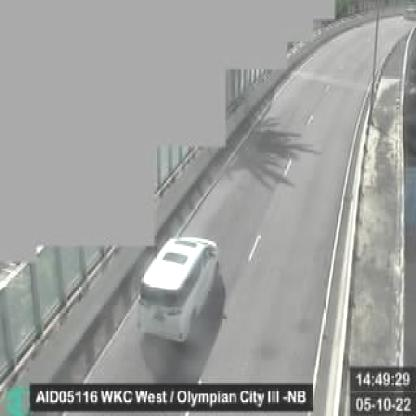Car: (138, 238, 218, 342)
